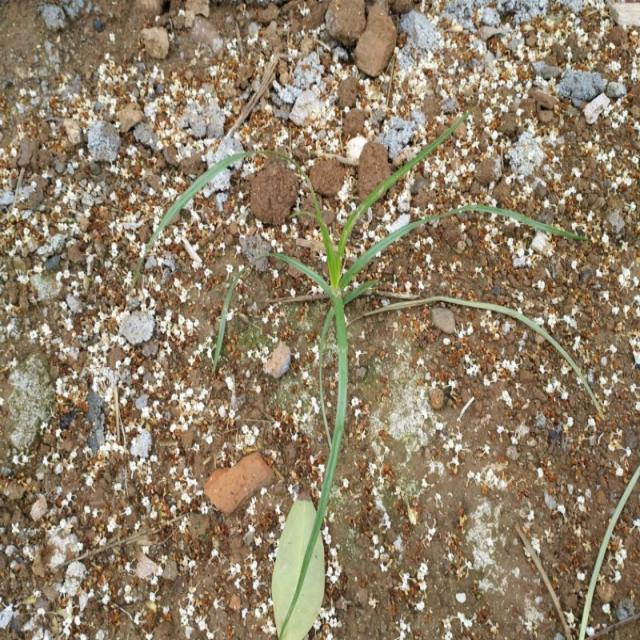sedge: (165, 109, 494, 566)
